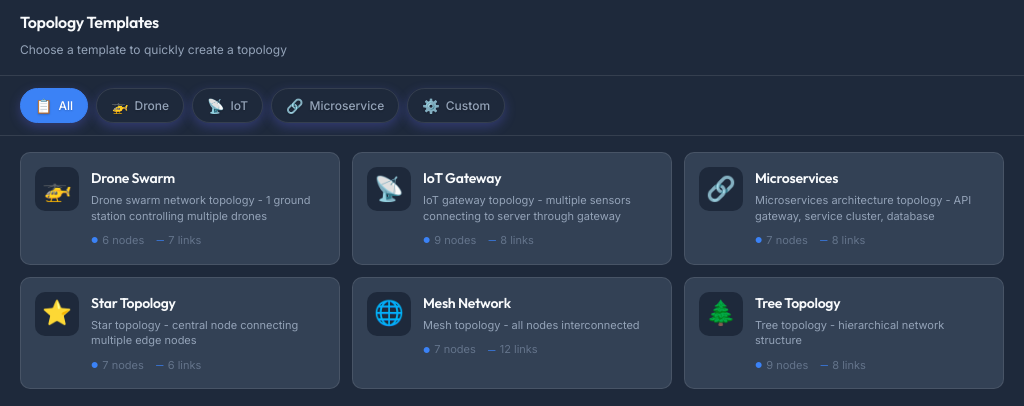
Test: TopologyTemplates › Hover State › should show overlay on hover
Hover over the text "Drone Swarm": point(180, 208) [20,152,340,265]
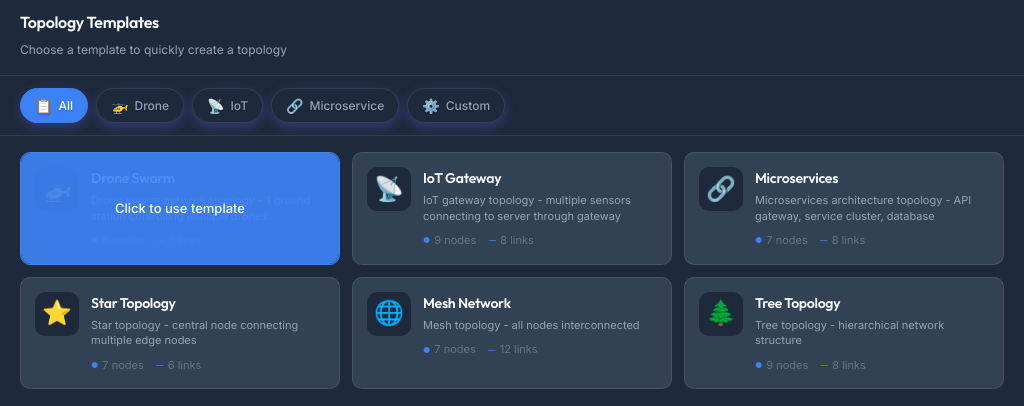
Expected: the text "Click to use template" is shown, [115,198,245,219]
Move the pointer off the text "Drone Swarm", box [20,152,340,265]
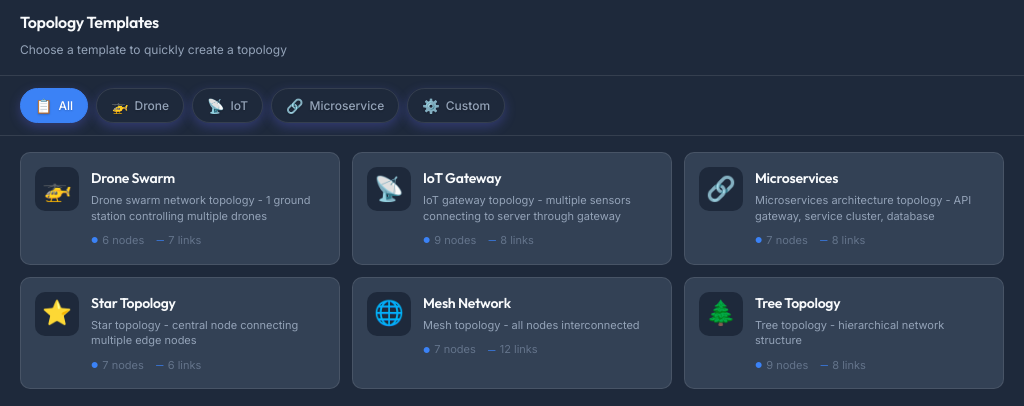
Expected: the text "Click to use template" is gone
